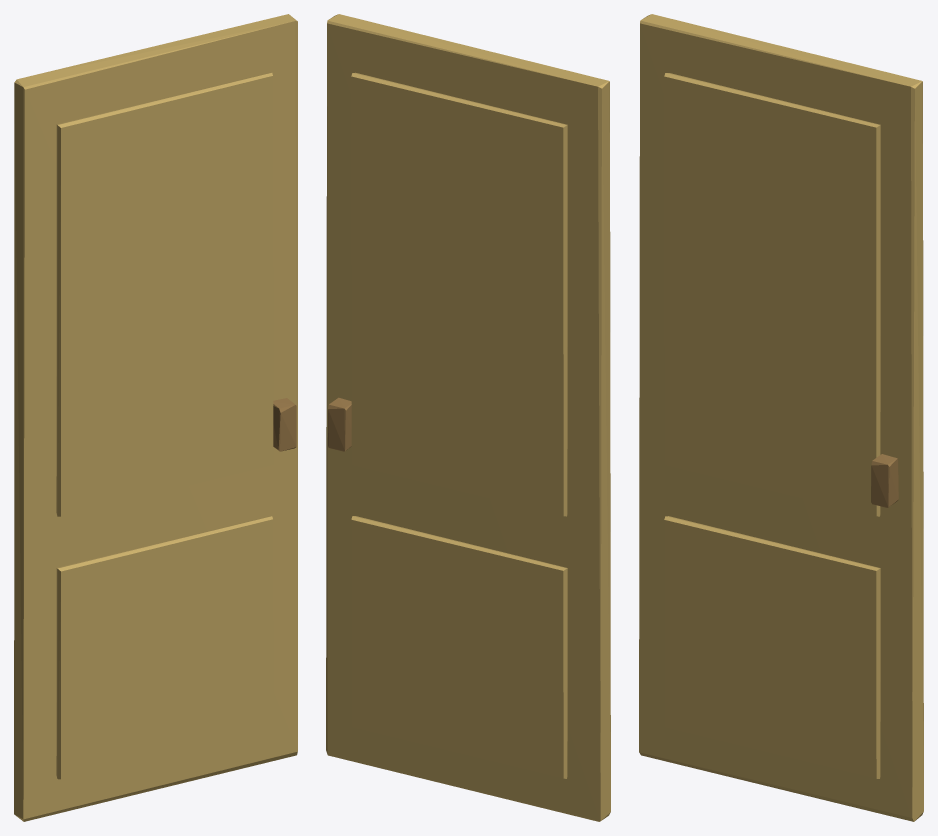
File: SM_Kit_Door_Panel_LOD2.glb
The picture shows the model from 3 angles, left to right: view 1: azimuth 30°, elevation 25°; view 2: azimuth 150°, elevation 25°; view 3: azimuth 330°, elevation 25°; orthographic projection.
Parts seen in each view (by area): view 1: SM_Kit_Door_Panel_LOD2; view 2: SM_Kit_Door_Panel_LOD2; view 3: SM_Kit_Door_Panel_LOD2.
Boxes of the visible parts, box(x1,y1,x2,y2) form: SM_Kit_Door_Panel_LOD2: box(14, 14, 297, 821); SM_Kit_Door_Panel_LOD2: box(326, 14, 610, 821); SM_Kit_Door_Panel_LOD2: box(639, 14, 923, 821).
Bounding box in the file's own units: 0.8137 × 2.07 × 0.1761.
